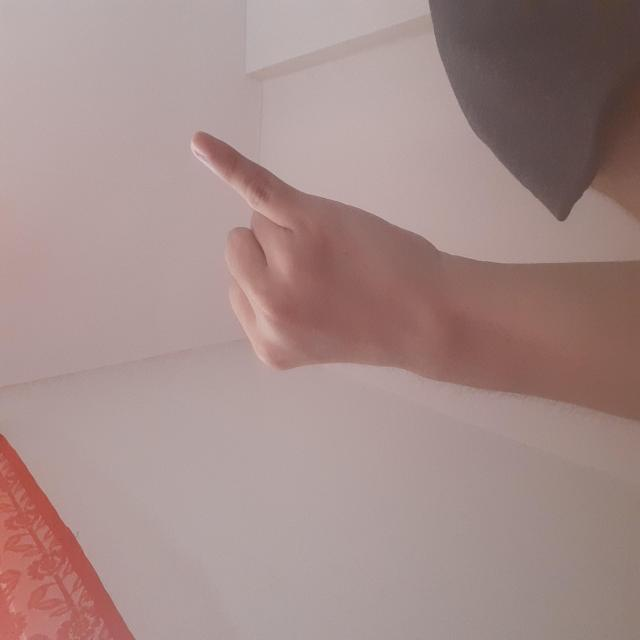J: (148, 82, 456, 437)
